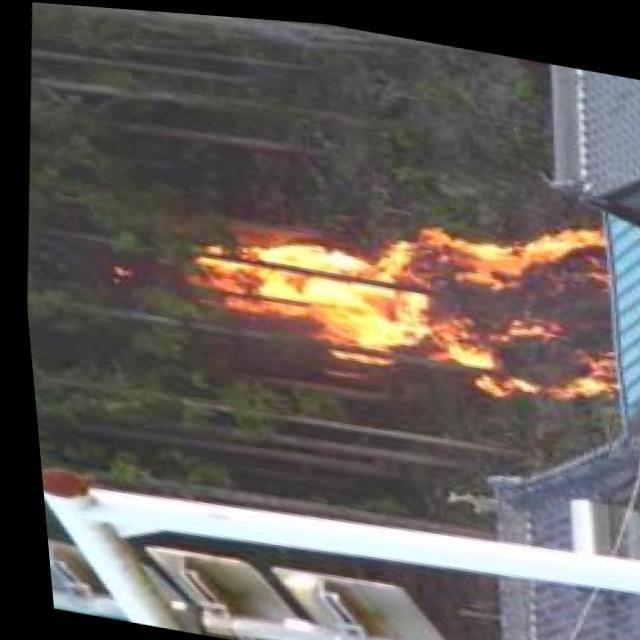fire: (152, 168, 620, 400)
